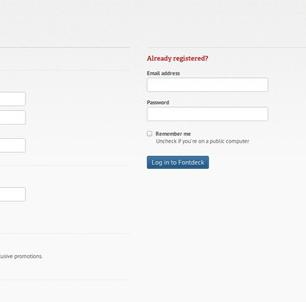button: (147, 155, 210, 169)
checkbox: (146, 130, 153, 137)
checkbox_with_label: (145, 129, 251, 144)
field: (145, 104, 268, 121), (145, 76, 268, 92)
field_with_label: (144, 69, 269, 93), (143, 99, 271, 122)
